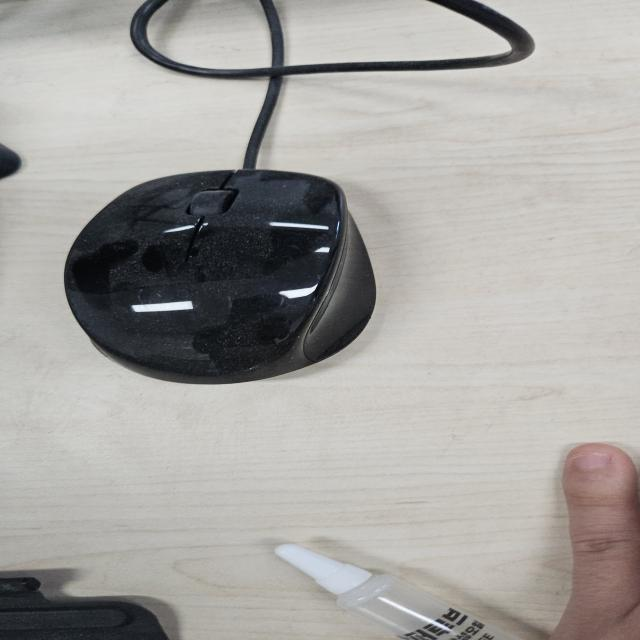Mouse: (62, 167, 380, 385)
